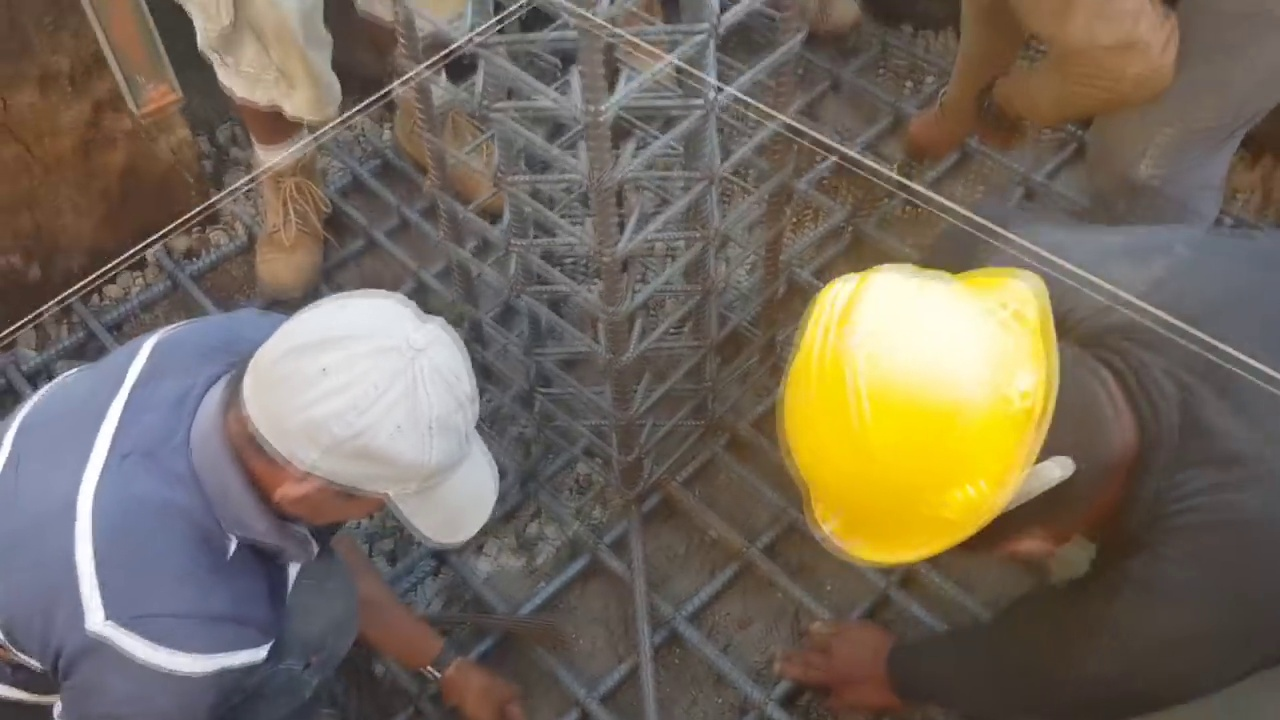helmet: (781, 260, 1064, 570)
helmet-off: (224, 286, 476, 561)
helmet-on: (778, 254, 1149, 587)
person: (769, 235, 1280, 720), (0, 271, 527, 720), (161, 0, 534, 279), (900, 0, 1276, 226)
